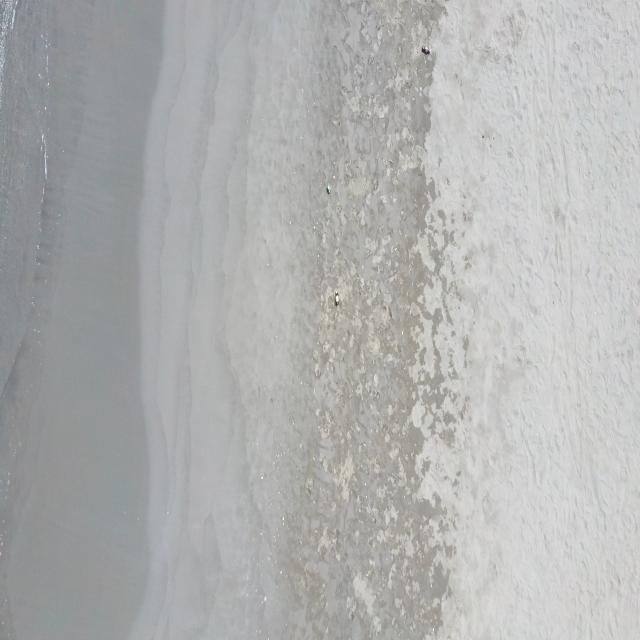glass: (334, 288, 341, 308), (421, 44, 432, 56), (326, 182, 332, 197)
